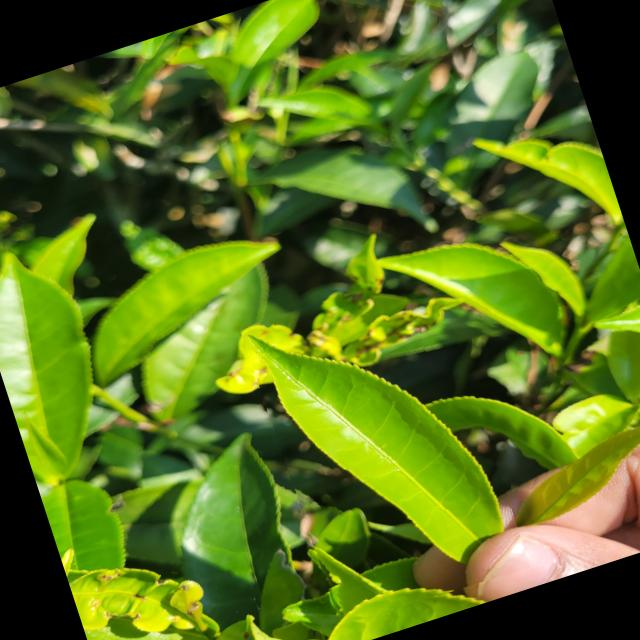Catagory A(1-2 days): (240, 266, 530, 630)
